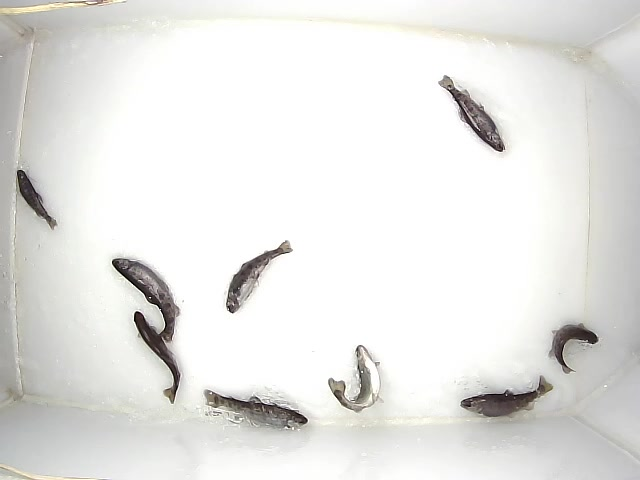fish: (112, 258, 180, 343), (438, 75, 506, 152), (226, 240, 293, 313), (134, 311, 181, 404), (203, 389, 308, 430), (460, 375, 554, 417), (328, 345, 384, 413), (548, 323, 599, 374), (17, 170, 58, 230)
